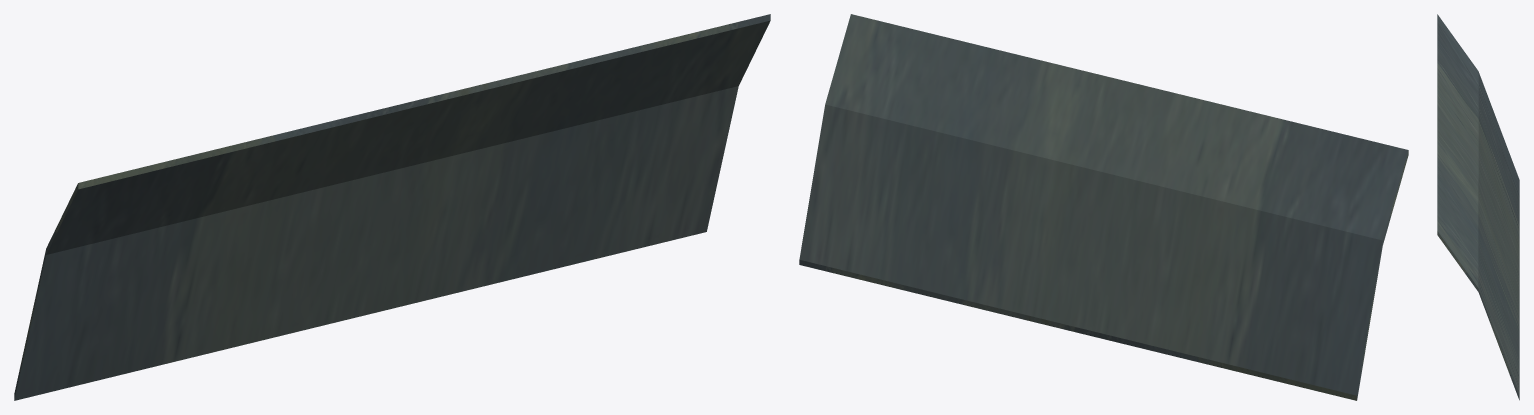
Rendered from CM_SlateRoofKit01_PitchBreak2m_71to57.fbx.
3 views of the same model, side by side, from view 1: azimuth 30°, elevation 25°; view 2: azimuth 150°, elevation 25°; view 3: azimuth 270°, elevation 25° (orthographic). The views are drawn at different scales.
Parts seen in each view (by area): view 1: CM_SlateRoofKit01_PitchBreak2m_71to57_Slate; view 2: CM_SlateRoofKit01_PitchBreak2m_71to57_Slate; view 3: CM_SlateRoofKit01_PitchBreak2m_71to57_Slate.
Boxes of the visible parts, x1,y1,x2,y2 form: CM_SlateRoofKit01_PitchBreak2m_71to57_Slate: (14,14,770,400); CM_SlateRoofKit01_PitchBreak2m_71to57_Slate: (799,14,1408,400); CM_SlateRoofKit01_PitchBreak2m_71to57_Slate: (1437,14,1519,400).
Bounding box in the file's own units: 2 × 0.7308 × 0.32.
